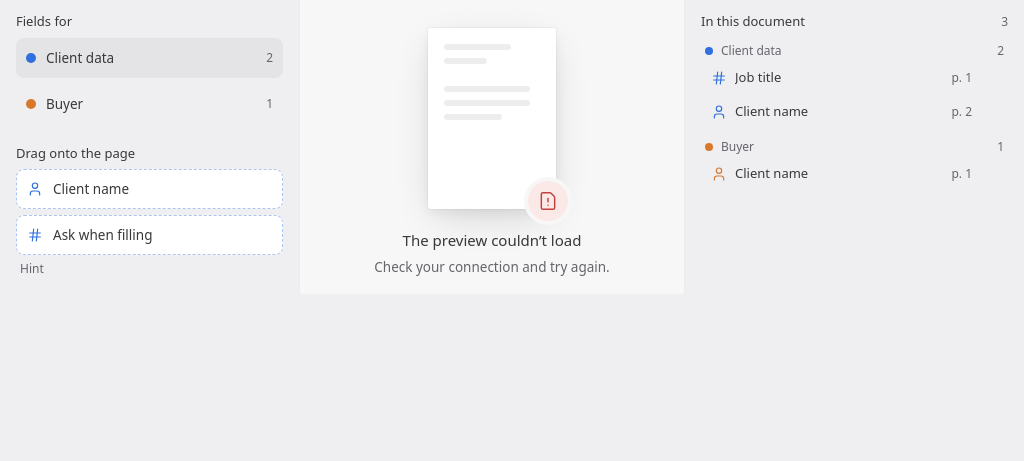
Test: clicking an item selects that field
Click the button "Job title p. 1".
click(758, 77)  # box x1=701 y1=62 x2=1008 y2=94
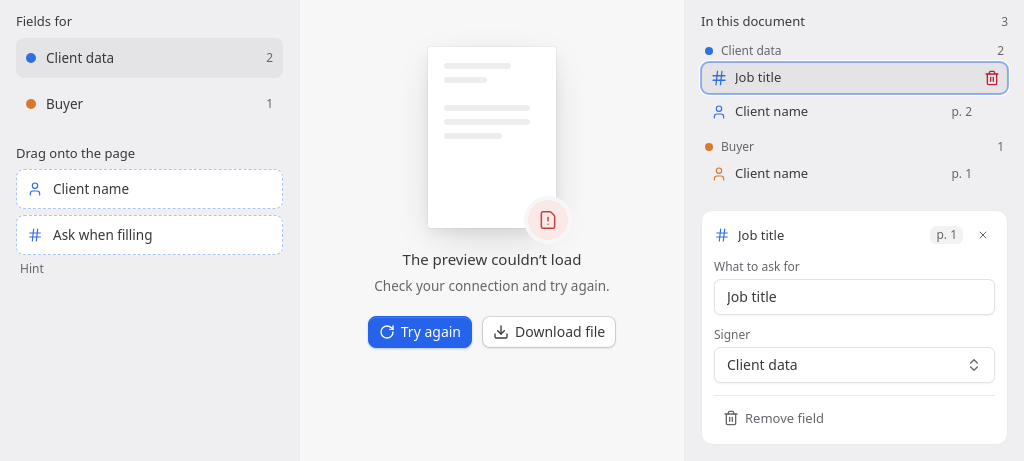
Now the button "Job title" is marked as current, box x1=701 y1=62 x2=1008 y2=94
